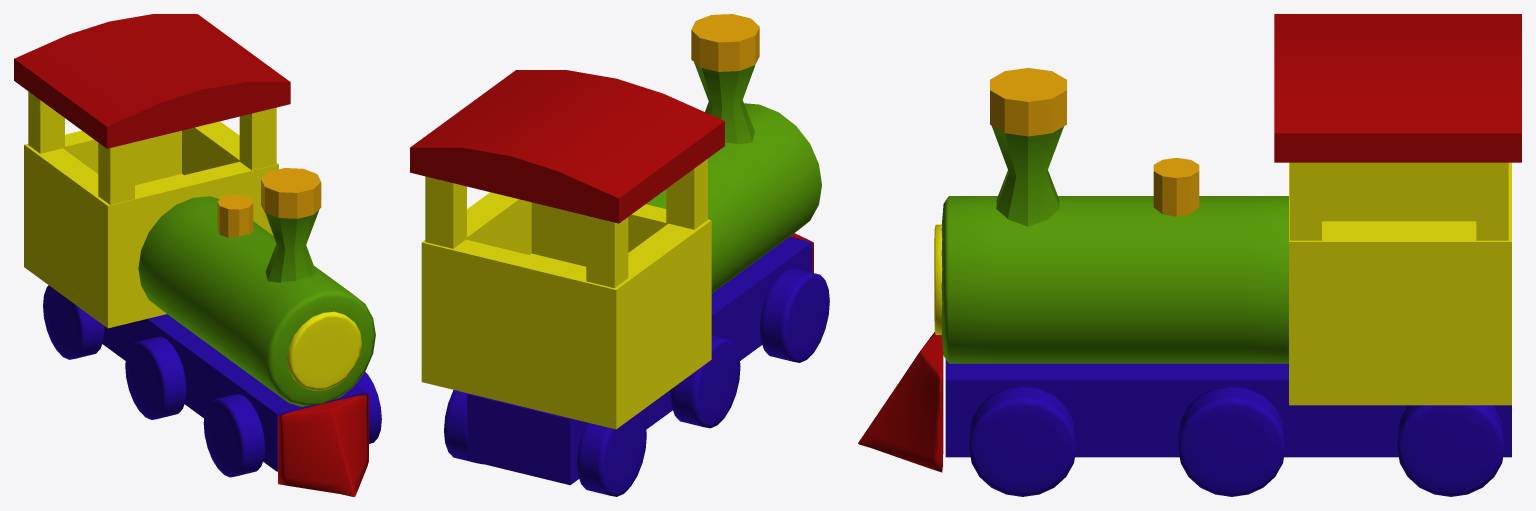
File: Train.fbx
3 renders of one model, left to right at view 1: azimuth 30°, elevation 25°; view 2: azimuth 150°, elevation 25°; view 3: azimuth 270°, elevation 25°, orthographic. The views are drawn at different scales.
Parts seen in each view (by area): view 1: Train; view 2: Train; view 3: Train.
Boxes of the visible parts, x1,y1,x2,y2 form: Train: (14, 14, 381, 496); Train: (410, 14, 829, 496); Train: (858, 14, 1521, 496).
Bounding box in the file's own units: 3.32 × 5.16 × 7.81.
